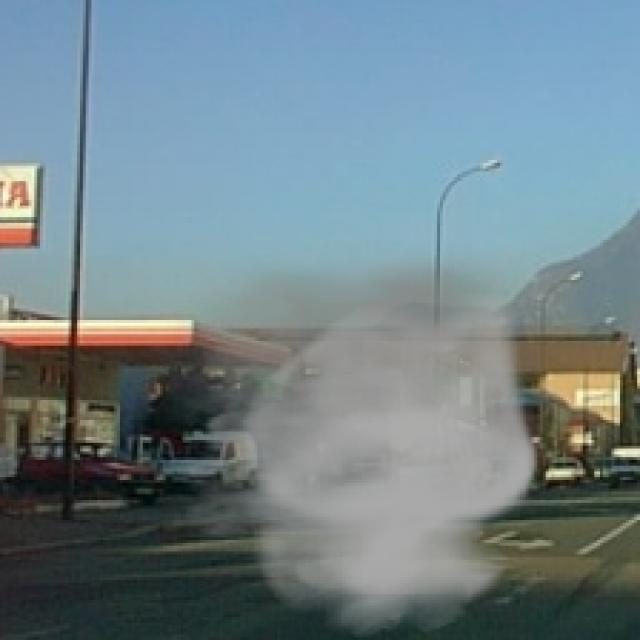Smoke: (131, 242, 546, 638)
